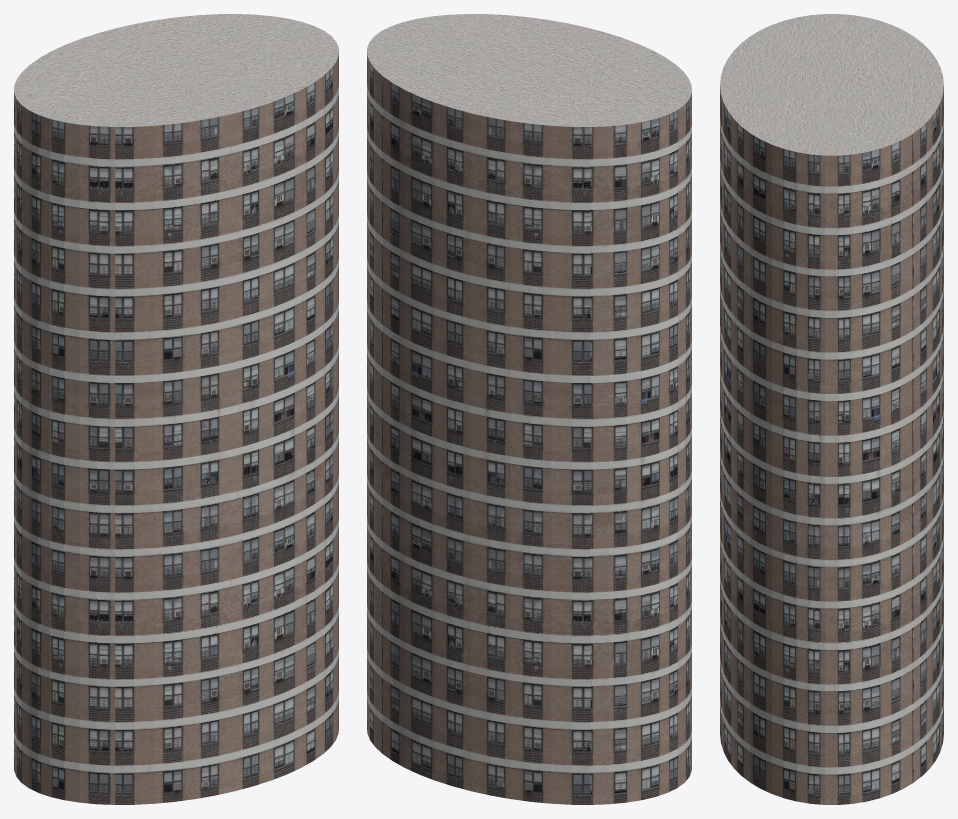
Rendered from building_002.glb.
3 views of the same model, side by side, from view 1: azimuth 30°, elevation 25°; view 2: azimuth 150°, elevation 25°; view 3: azimuth 270°, elevation 25° (orthographic). The views are drawn at different scales.
Visible parts, largest first — view 1: building_002; view 2: building_002; view 3: building_002.
Part boxes in pixels (x1=…): building_002: x1=14, y1=14, x2=338, y2=804; building_002: x1=367, y1=14, x2=691, y2=804; building_002: x1=720, y1=14, x2=943, y2=804.
Bounding box in the file's own units: 1497 × 3200 × 1000.
Materials: 2 (2 with a texture image).
